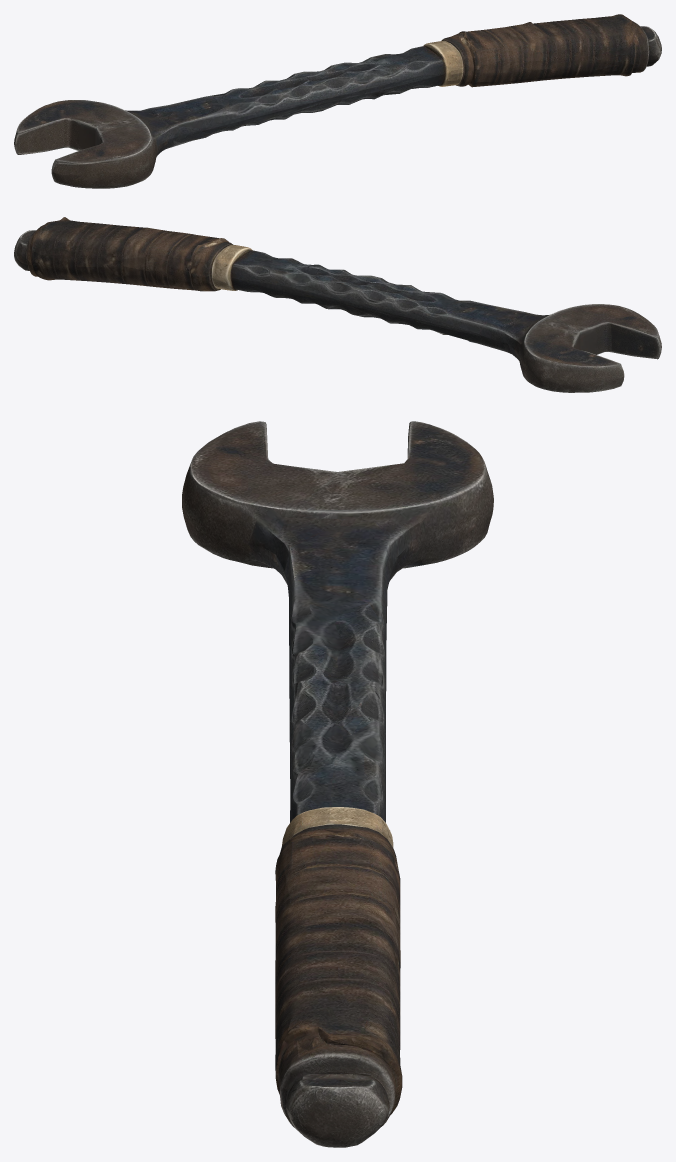
The model's file is wrench.glb.
The picture shows the model from 3 angles, top to bottom: view 1: azimuth 30°, elevation 25°; view 2: azimuth 150°, elevation 25°; view 3: azimuth 270°, elevation 25°; orthographic projection. The views are drawn at different scales.
Parts seen in each view (by area): view 1: Mesh_0; view 2: Mesh_0; view 3: Mesh_0.
Part boxes in pixels (x1=…): Mesh_0: x1=14, y1=14, x2=661, y2=188; Mesh_0: x1=14, y1=217, x2=661, y2=392; Mesh_0: x1=182, y1=421, x2=493, y2=1147.
Size of the model in its own units: 1.9 by 0.2108 by 0.4138.
Materials: 1 (1 with a texture image).
